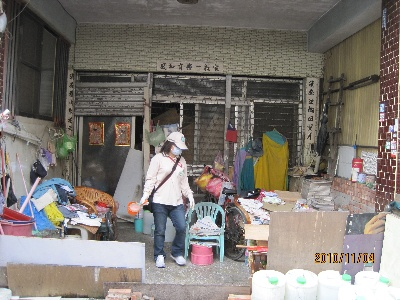bucket: (251, 269, 286, 300), (284, 268, 317, 300)
